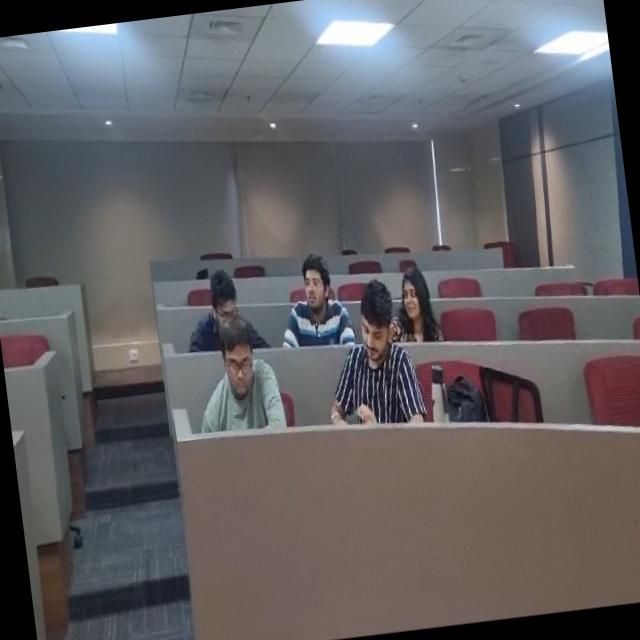cheating: (344, 275, 418, 425), (201, 314, 274, 418), (380, 242, 448, 350), (290, 255, 346, 328), (190, 262, 248, 328)
